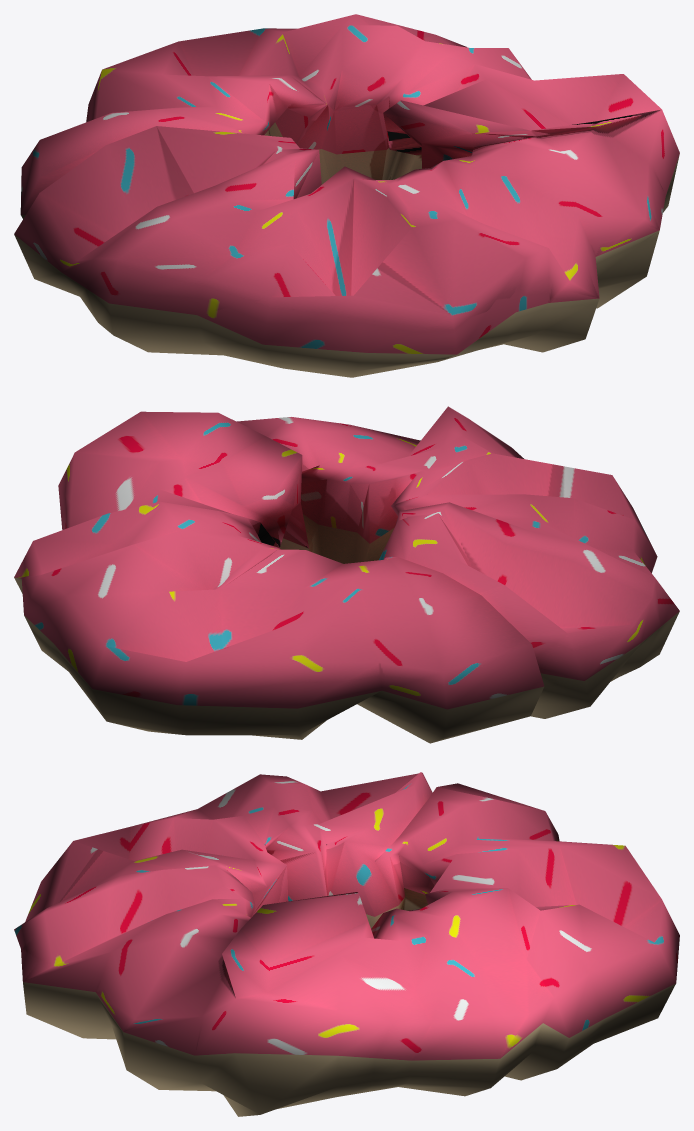
File: Scrunchie2.fbx
3 views of the same model, one above another, from view 1: azimuth 30°, elevation 25°; view 2: azimuth 150°, elevation 25°; view 3: azimuth 270°, elevation 25° (orthographic). The views are drawn at different scales.
Parts seen in each view (by area): view 1: Torus; view 2: Torus; view 3: Torus.
Part boxes in pixels (x1,y1,x2,y2): Torus: [14, 14, 679, 377]; Torus: [14, 406, 679, 743]; Torus: [14, 772, 679, 1116].
Bounding box in the file's own units: 359 × 107 × 364.
1 material, 1 textured.
